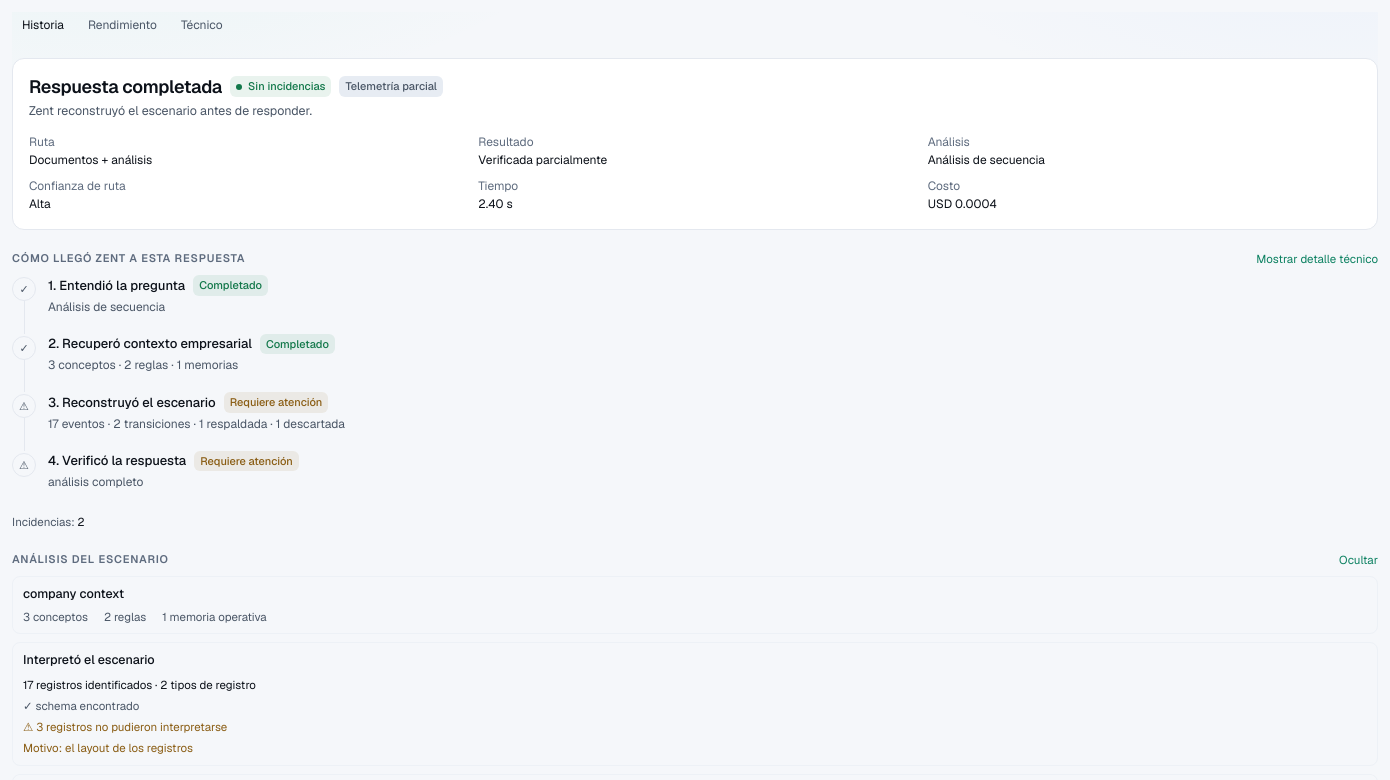
Test: ExecutionStoryView (§30, §31) › separara la historia del detalle técnico
expect the text "Traza técnica" is not shown: met
Click the tab "Técnico": (202, 25) [171,12,233,38]
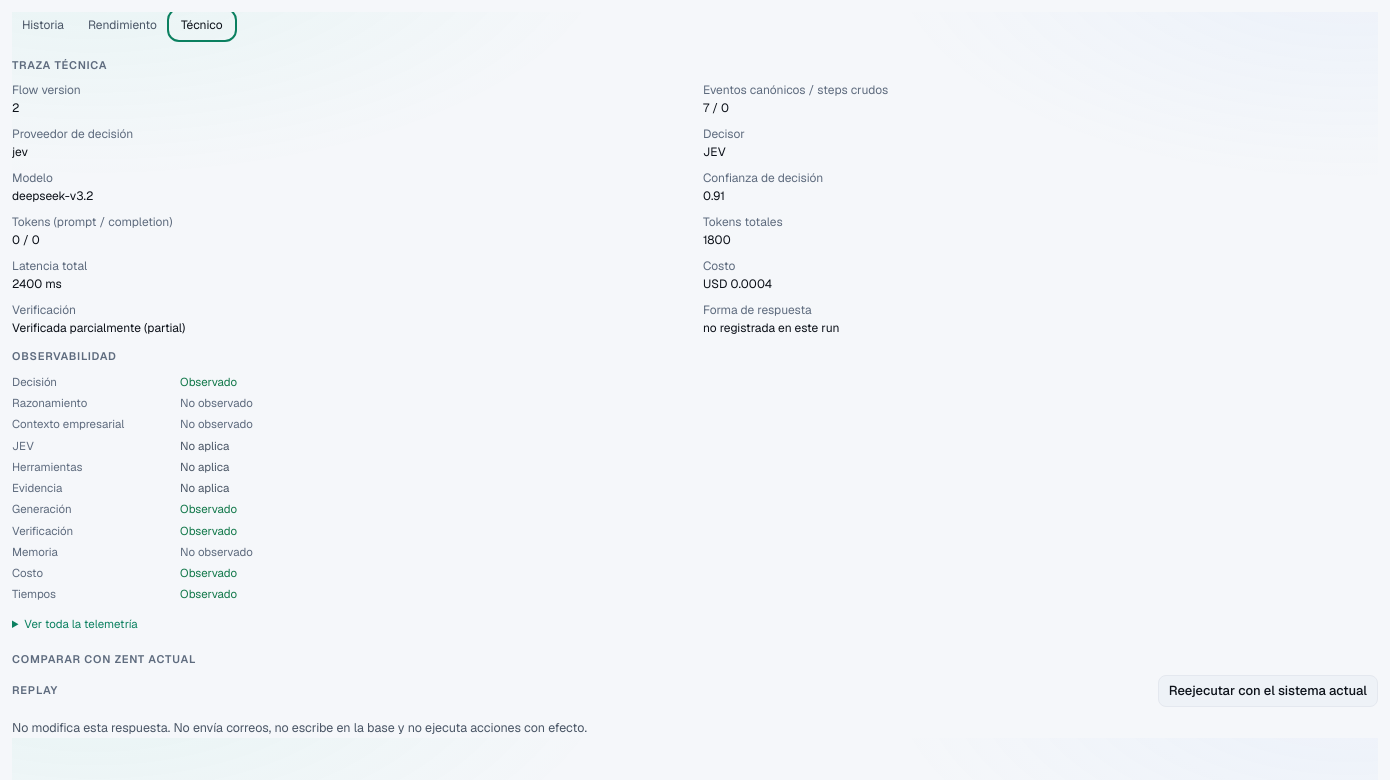
expect the text "Traza técnica" is shown: met, box [12,58,107,72]
expect the text "deepseek-v3.2" is shown: met, box [12,188,93,204]
